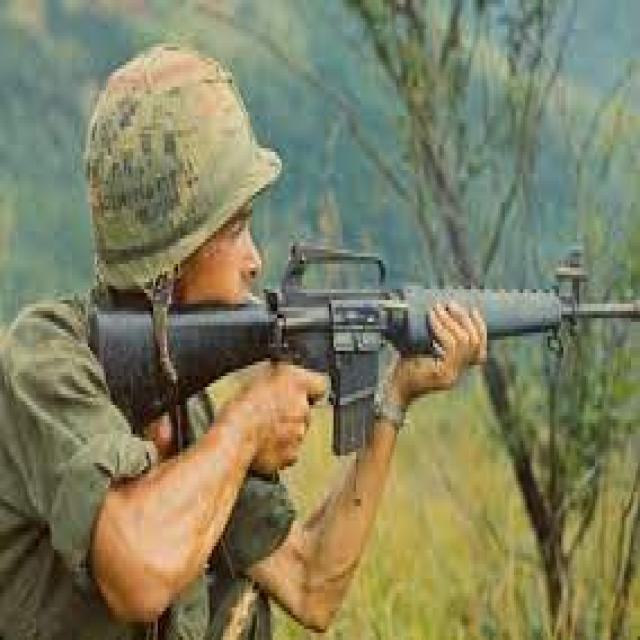m16: (75, 212, 640, 466)
